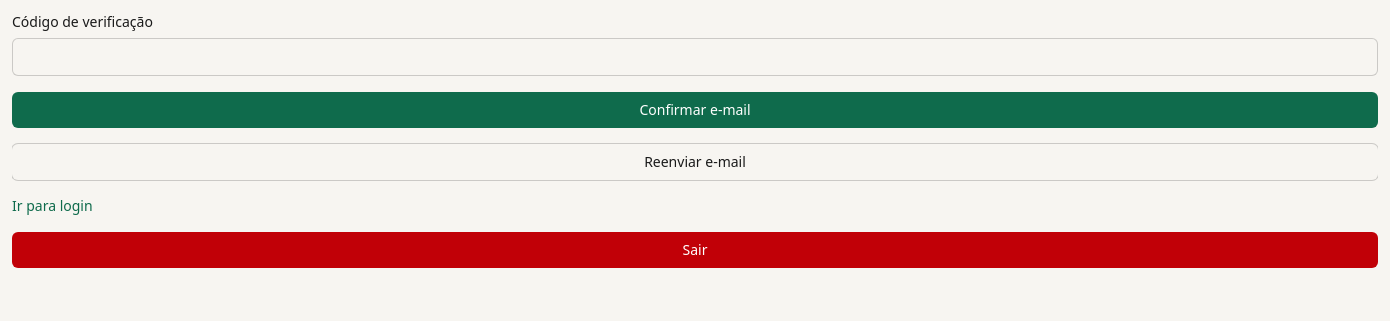
Scenario: VerifyEmailForm (EV-08–15, BFFUI-51) › shows success message and navigates to /login on 200 with redirect_to (EV-13)
The width and height of the screenshot is (1390, 321).
Type "valid-token" into the field labelled "Código de verificação" at (695, 57), box [12, 38, 1378, 76]
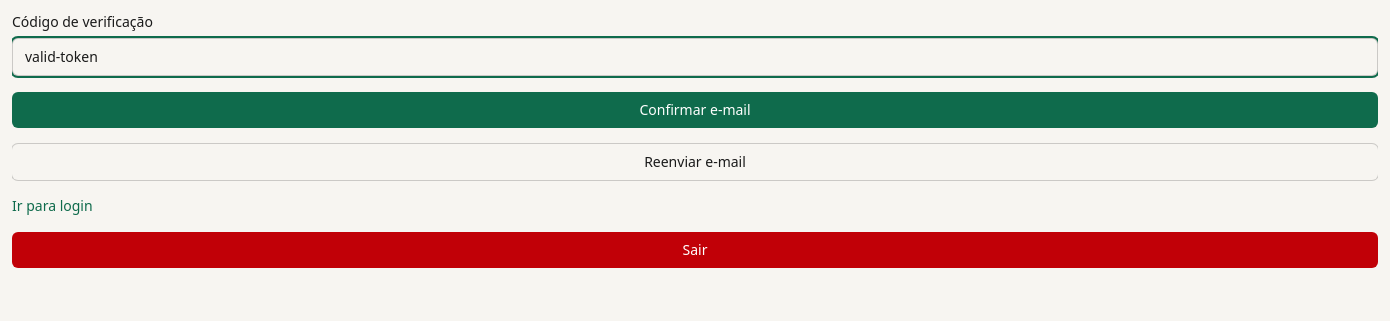
Click the button "Confirmar e-mail" at (695, 110), box [12, 92, 1378, 128]
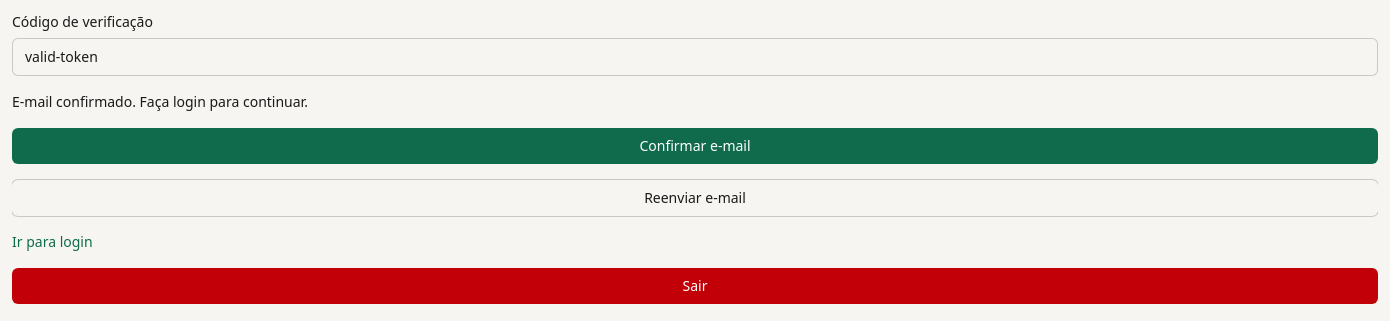
Check: the message reads "E-mail confirmado. Faça login para continuar.", box [12, 92, 308, 111]
